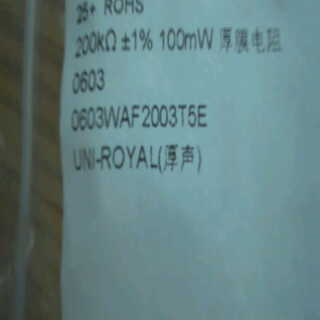200kR: (70, 25, 119, 60)
